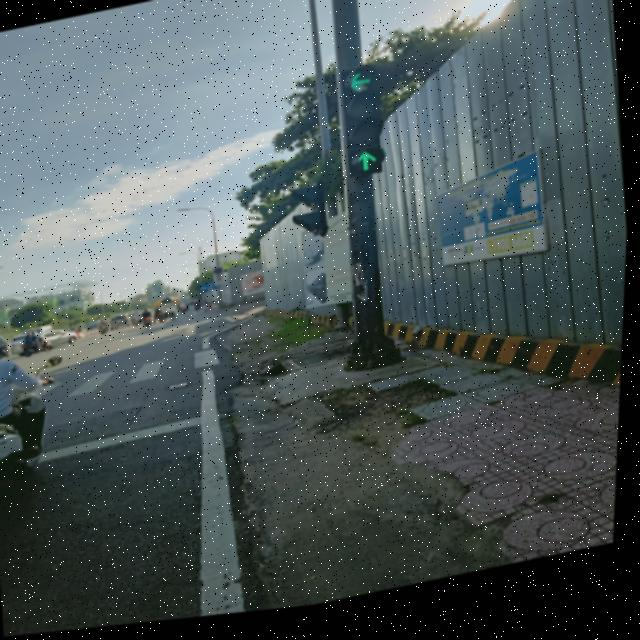Green: (332, 93, 398, 192)
